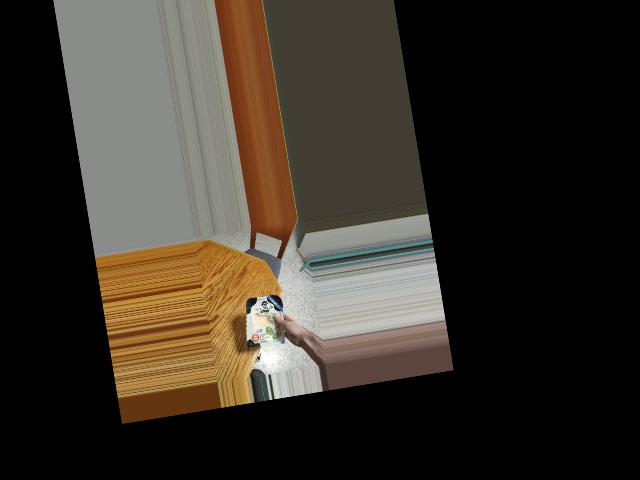cheese: (245, 286, 293, 357)
